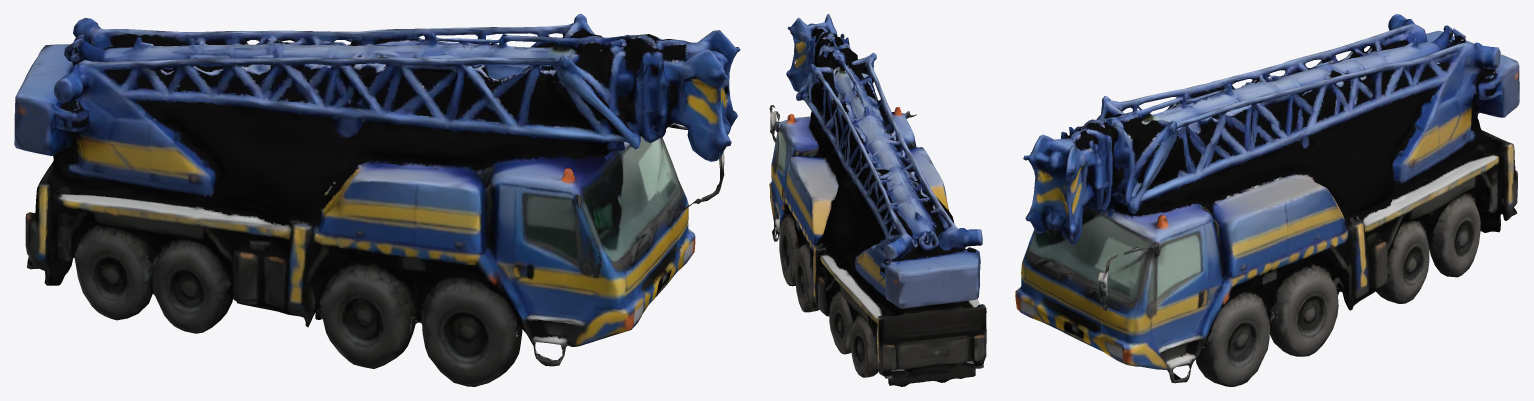
The picture shows the model from 3 angles, left to right: view 1: azimuth 30°, elevation 25°; view 2: azimuth 150°, elevation 25°; view 3: azimuth 270°, elevation 25°; orthographic projection. The views are drawn at different scales.
Visible parts, largest first — view 1: Mesh_0; view 2: Mesh_0; view 3: Mesh_0.
Boxes of the visible parts, x1,y1,x2,y2 form: Mesh_0: (14,14,740,386); Mesh_0: (769,14,986,386); Mesh_0: (1015,14,1519,386).
Bounding box in the file's own units: 4.19 × 2.5 × 4.13.
Materials: 1 (1 with a texture image).
